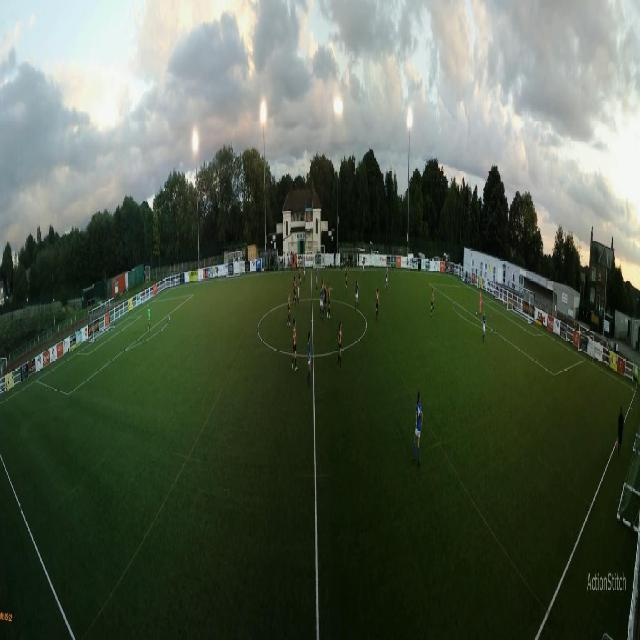ball: (476, 311, 477, 316)
player: (413, 389, 424, 470), (292, 317, 298, 372), (307, 333, 312, 389), (337, 319, 342, 373), (481, 312, 487, 343), (327, 285, 332, 320), (375, 286, 379, 325), (293, 275, 298, 306), (287, 288, 291, 326), (320, 284, 324, 322), (430, 289, 435, 319), (323, 284, 327, 320), (297, 276, 301, 307), (148, 305, 152, 333), (345, 262, 349, 290), (385, 267, 389, 295), (316, 264, 319, 295), (361, 257, 365, 279), (298, 264, 302, 284), (479, 290, 482, 316), (303, 262, 306, 284), (321, 276, 324, 285)
